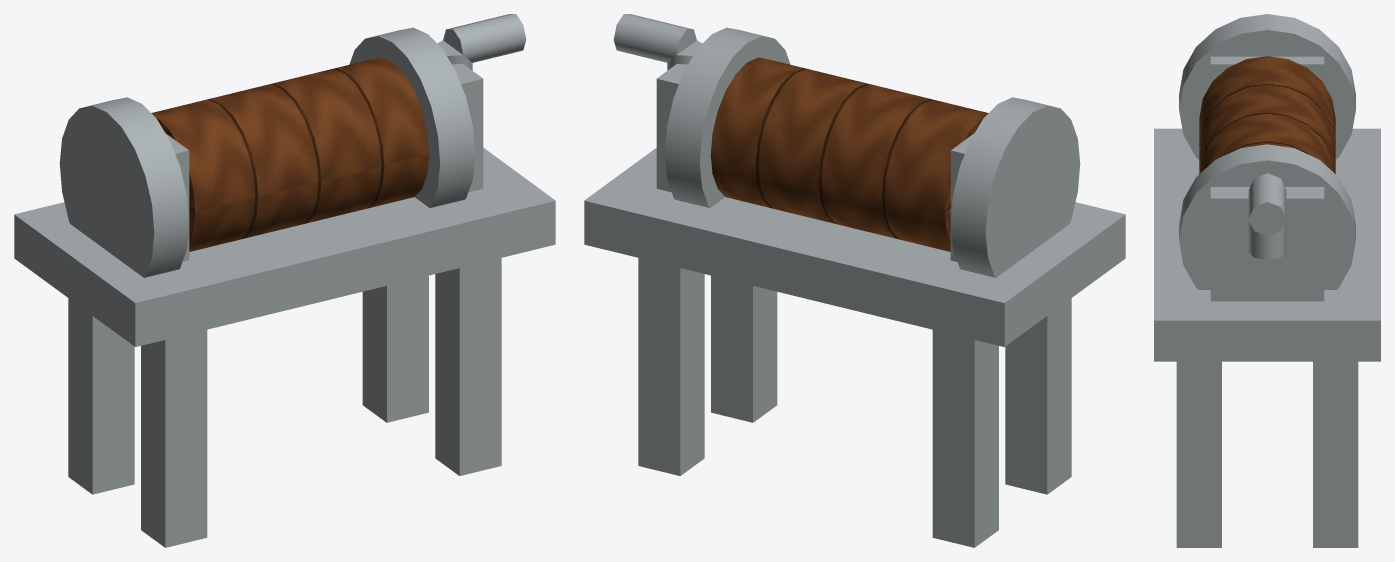
Rendered from roadside-survival-stops-hose-reel-wall-b596a6da__23536.glb.
3 renders of one model, left to right at view 1: azimuth 30°, elevation 25°; view 2: azimuth 150°, elevation 25°; view 3: azimuth 270°, elevation 25°, orthographic. The views are drawn at different scales.
Parts seen in each view (by area): view 1: hose-reel-wall; view 2: hose-reel-wall; view 3: hose-reel-wall.
Part boxes in pixels (x1=…): hose-reel-wall: x1=14, y1=14, x2=555, y2=547; hose-reel-wall: x1=584, y1=14, x2=1125, y2=547; hose-reel-wall: x1=1154, y1=14, x2=1380, y2=547.
Bounding box in the file's own units: 0.63 × 0.549 × 0.3.
Materials: 2 (1 with a texture image).
